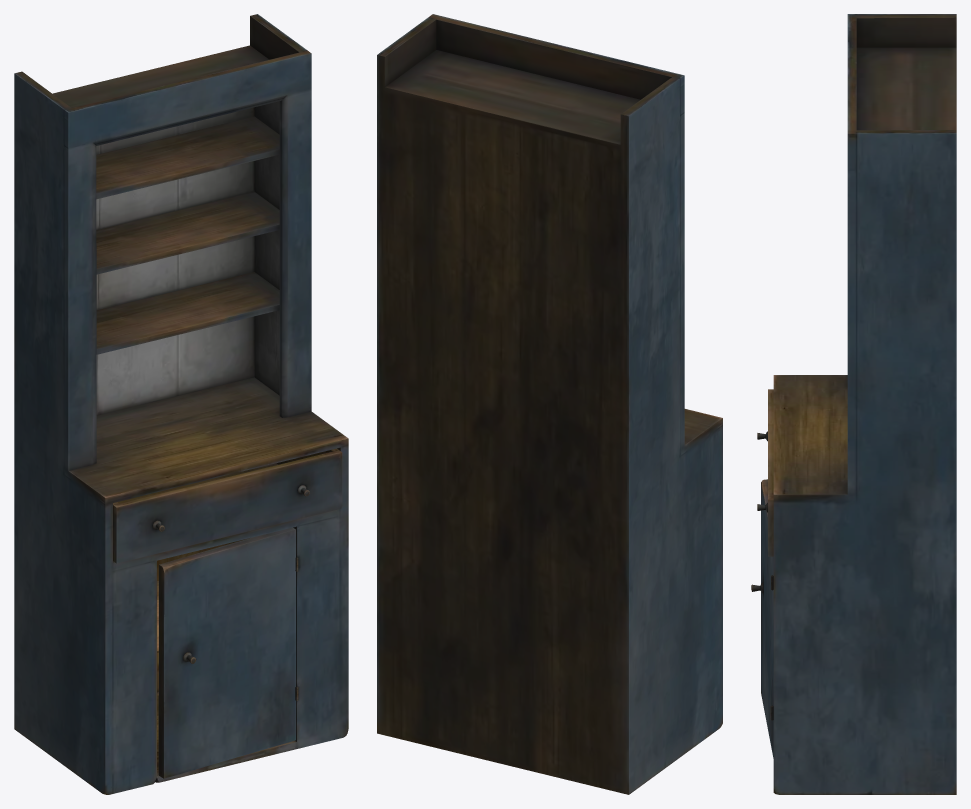
File: painted_wooden_cabinet_02.glb
The picture shows the model from 3 angles, left to right: view 1: azimuth 30°, elevation 25°; view 2: azimuth 150°, elevation 25°; view 3: azimuth 270°, elevation 25°; orthographic projection. The views are drawn at different scales.
Parts seen in each view (by area): view 1: painted_wooden_cabinet_02; view 2: painted_wooden_cabinet_02; view 3: painted_wooden_cabinet_02.
Part boxes in pixels (x1,y1,x2,y2): painted_wooden_cabinet_02: (14,14,348,794); painted_wooden_cabinet_02: (377,14,722,794); painted_wooden_cabinet_02: (751,14,956,794).
Size of the model in its own units: 0.9969 by 2.57 by 0.7222.
Materials: 1 (1 with a texture image).
